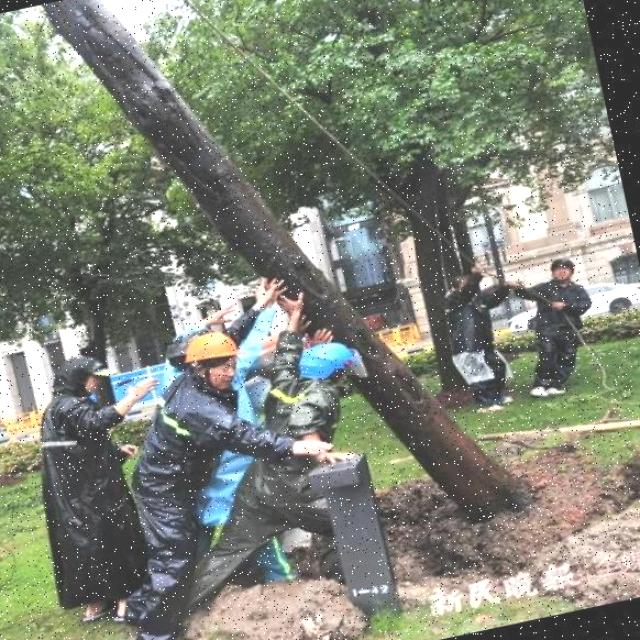fallen_object: (35, 0, 552, 631)
